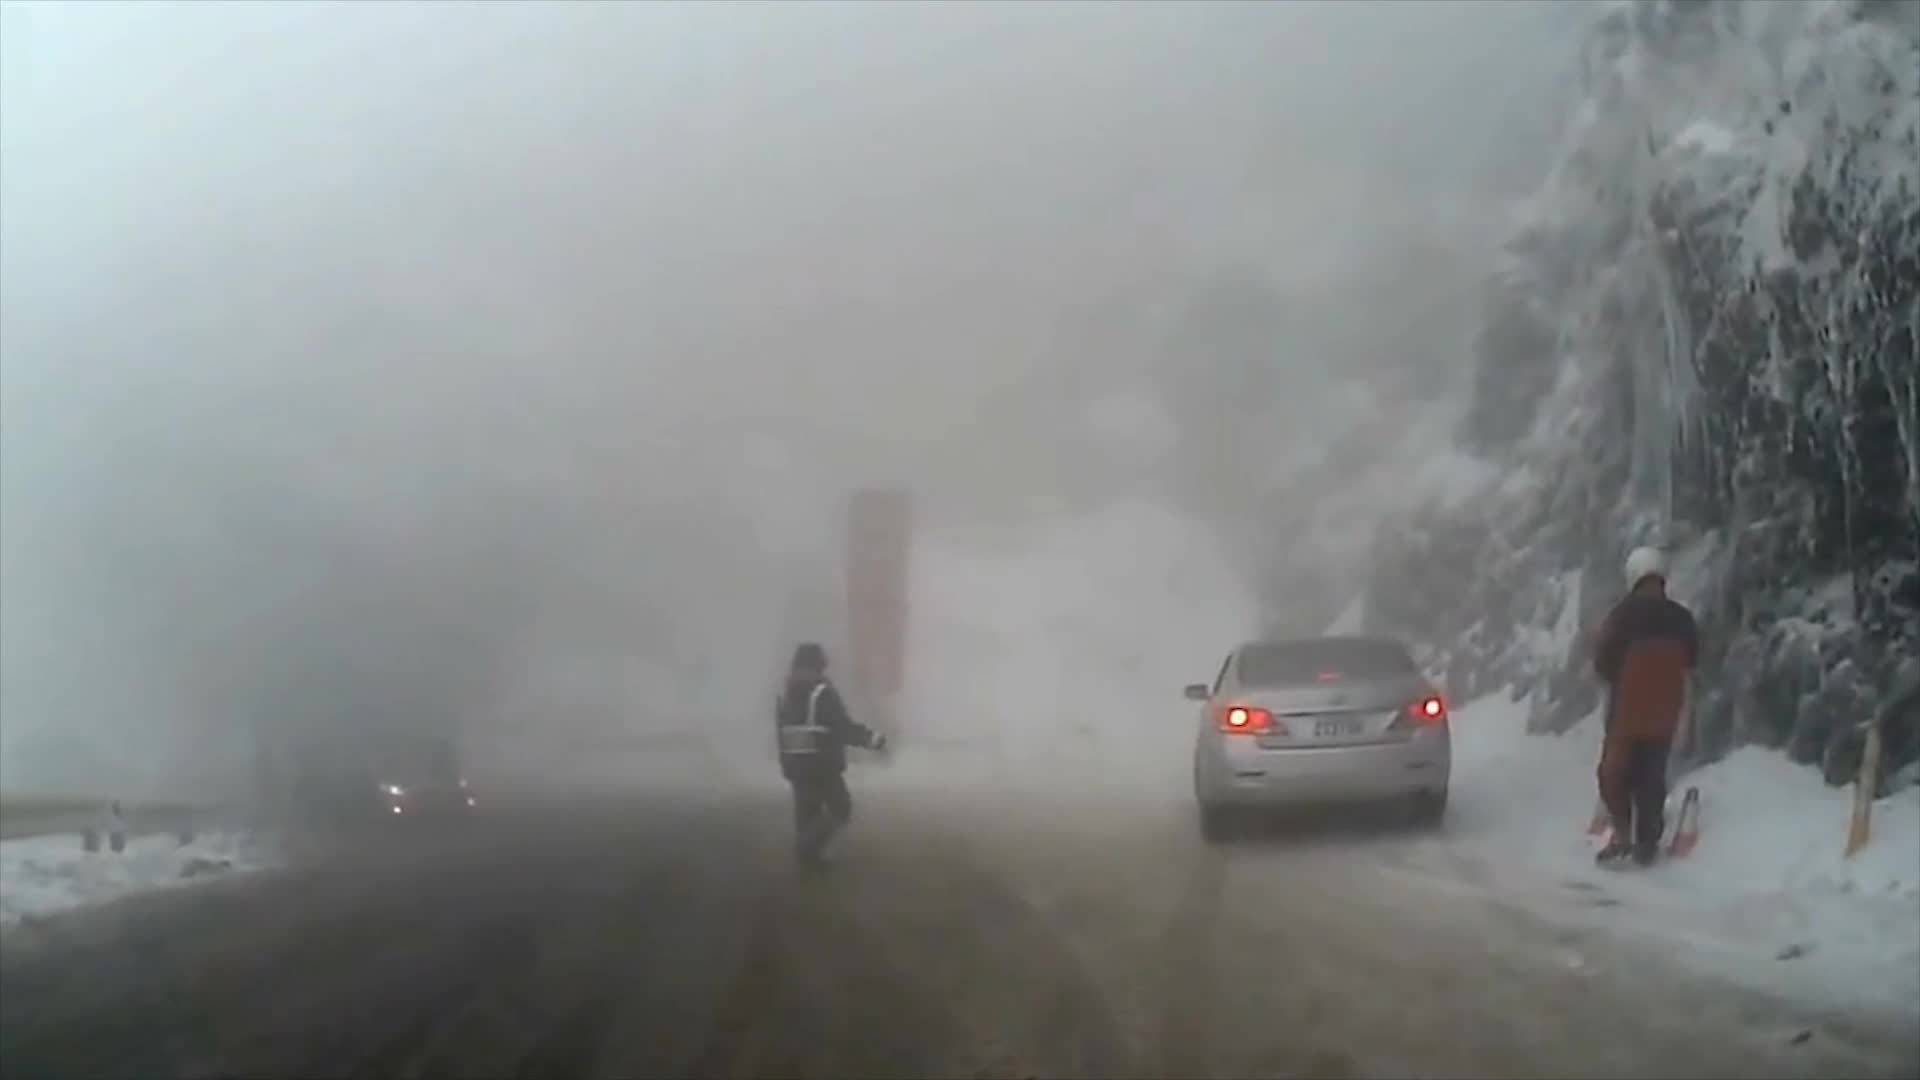pedestrian: (1585, 543, 1699, 873), (775, 645, 892, 872)
vehicle: (1181, 630, 1450, 842)
